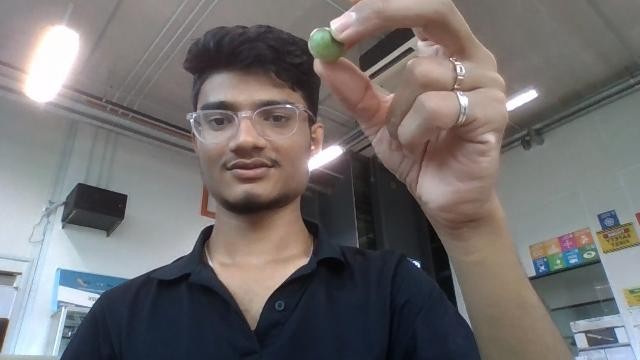Fruit Maturation: (308, 27, 346, 63)
